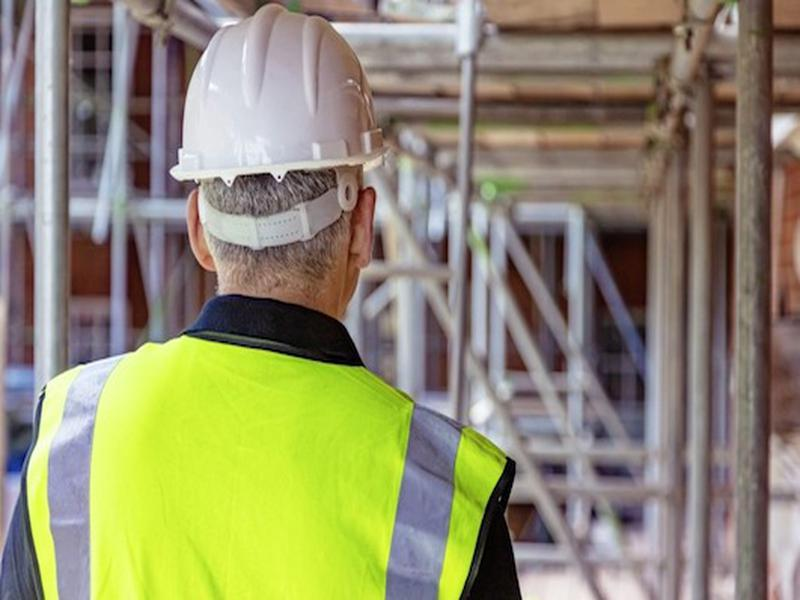hard-hat: (167, 3, 393, 247)
